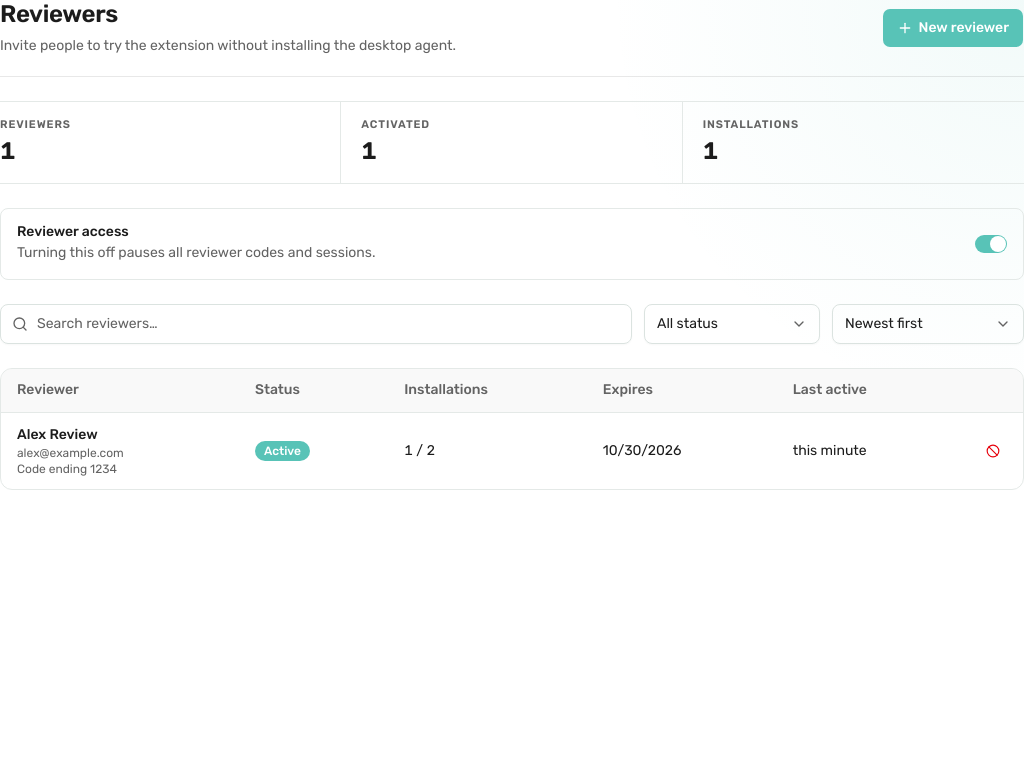
Test case: offers delete only for revoked reviewers and removes them after confirming
The image size is (1024, 768).
Check: the text "Alex Review" is shown, box 17,426 -> 98,443
Check: the button "Delete Alex Review" is not shown
What coordinates should you click on to do the following:
click the button named "Revoke Alex Review"
I would click on:
 (993, 451)
Its box is 979,437 -> 1007,465.
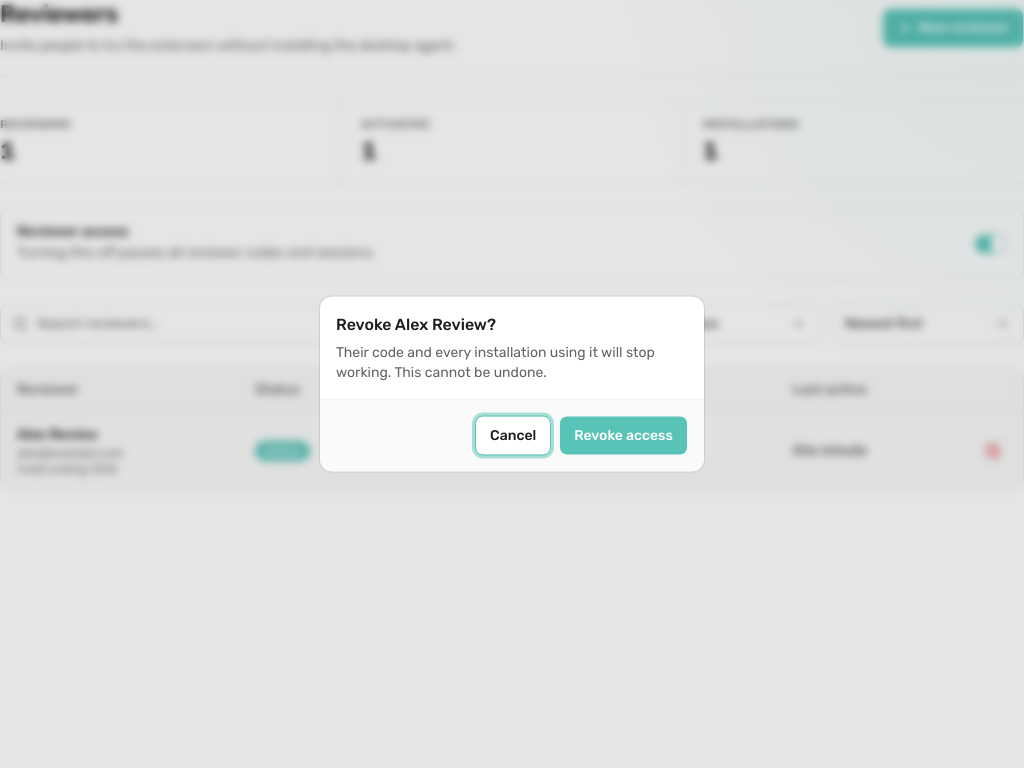
What coordinates should you click on to do the following:
click the button "Revoke access"
I would click on:
 (624, 436)
Its box is 559,416 -> 688,456.
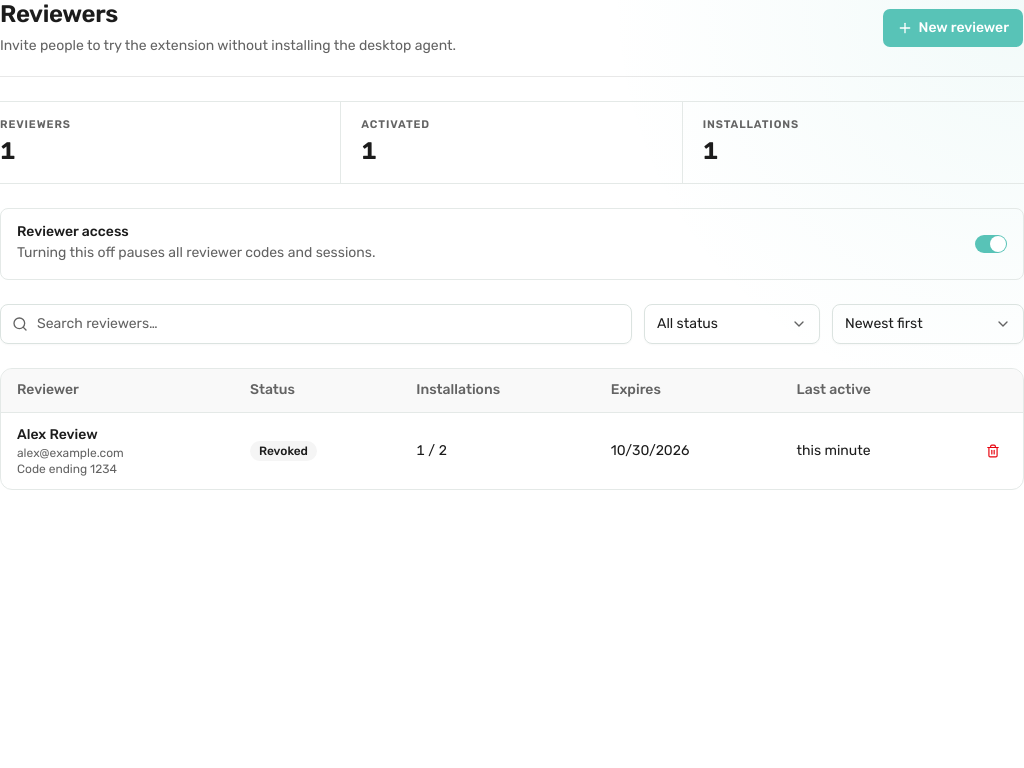
What coordinates should you click on to do the following:
click the button named "Delete Alex Review"
I would click on:
 (993, 451)
Its box is 979,437 -> 1007,465.
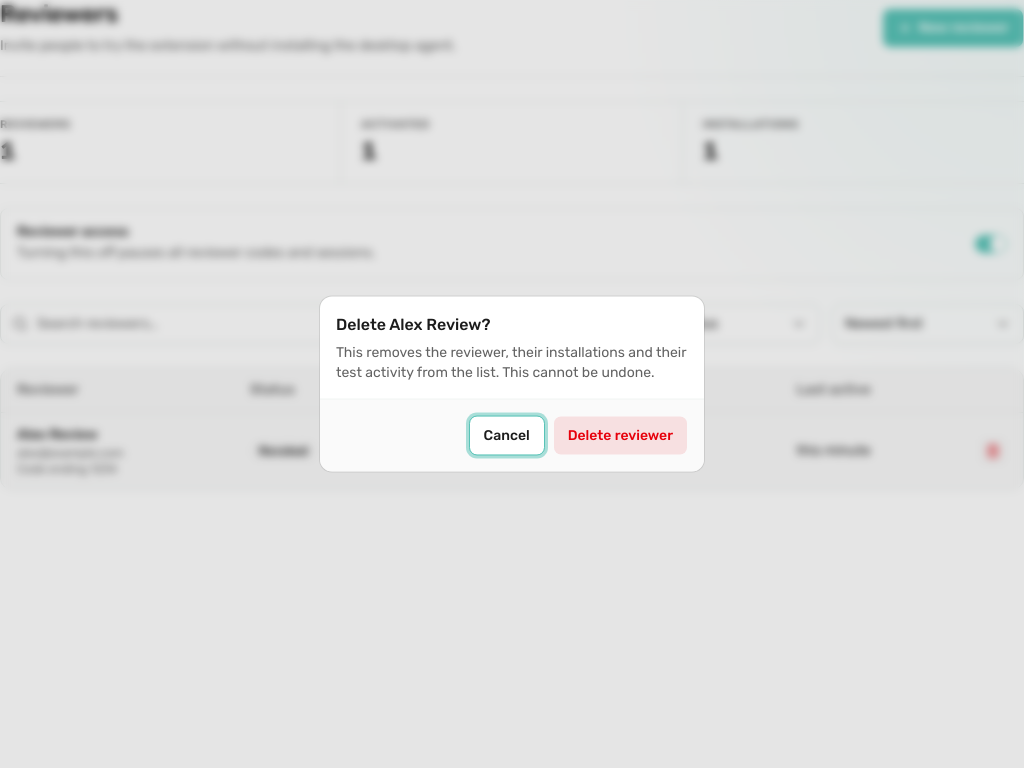
Check: the heading "Delete Alex Review?" is shown, box 336,312 -> 490,336
What coordinates should you click on to do the following:
click the button "Delete reviewer"
I would click on:
 (620, 436)
Its box is 553,416 -> 688,456.
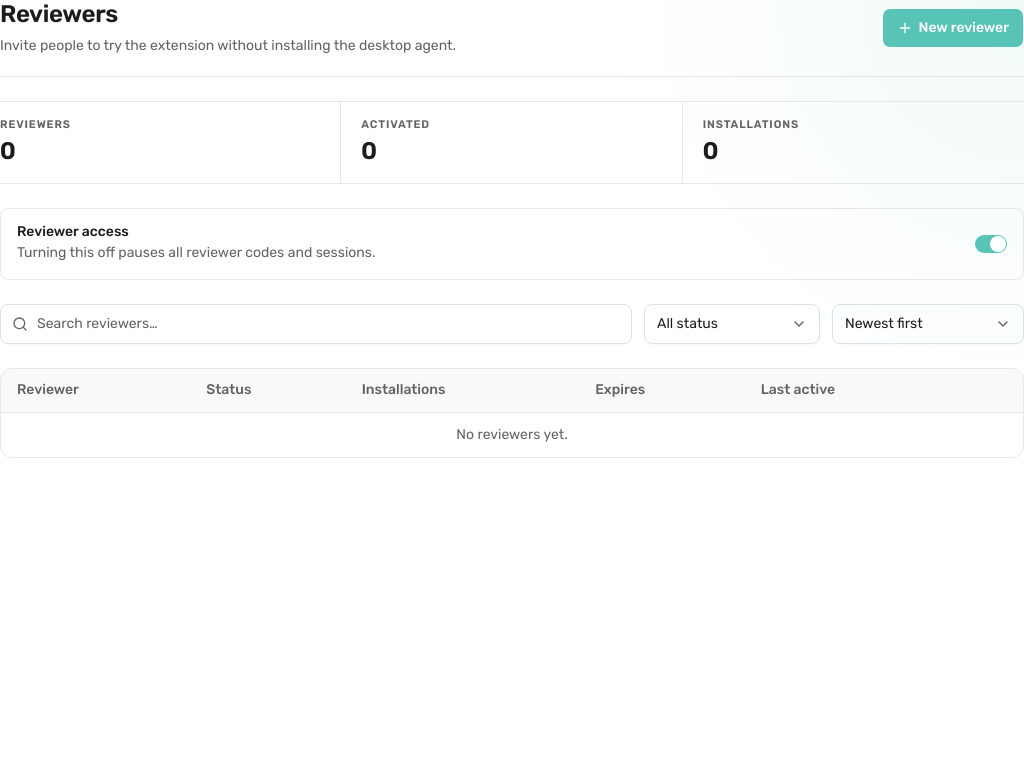
Check: the text "Alex Review" is gone
